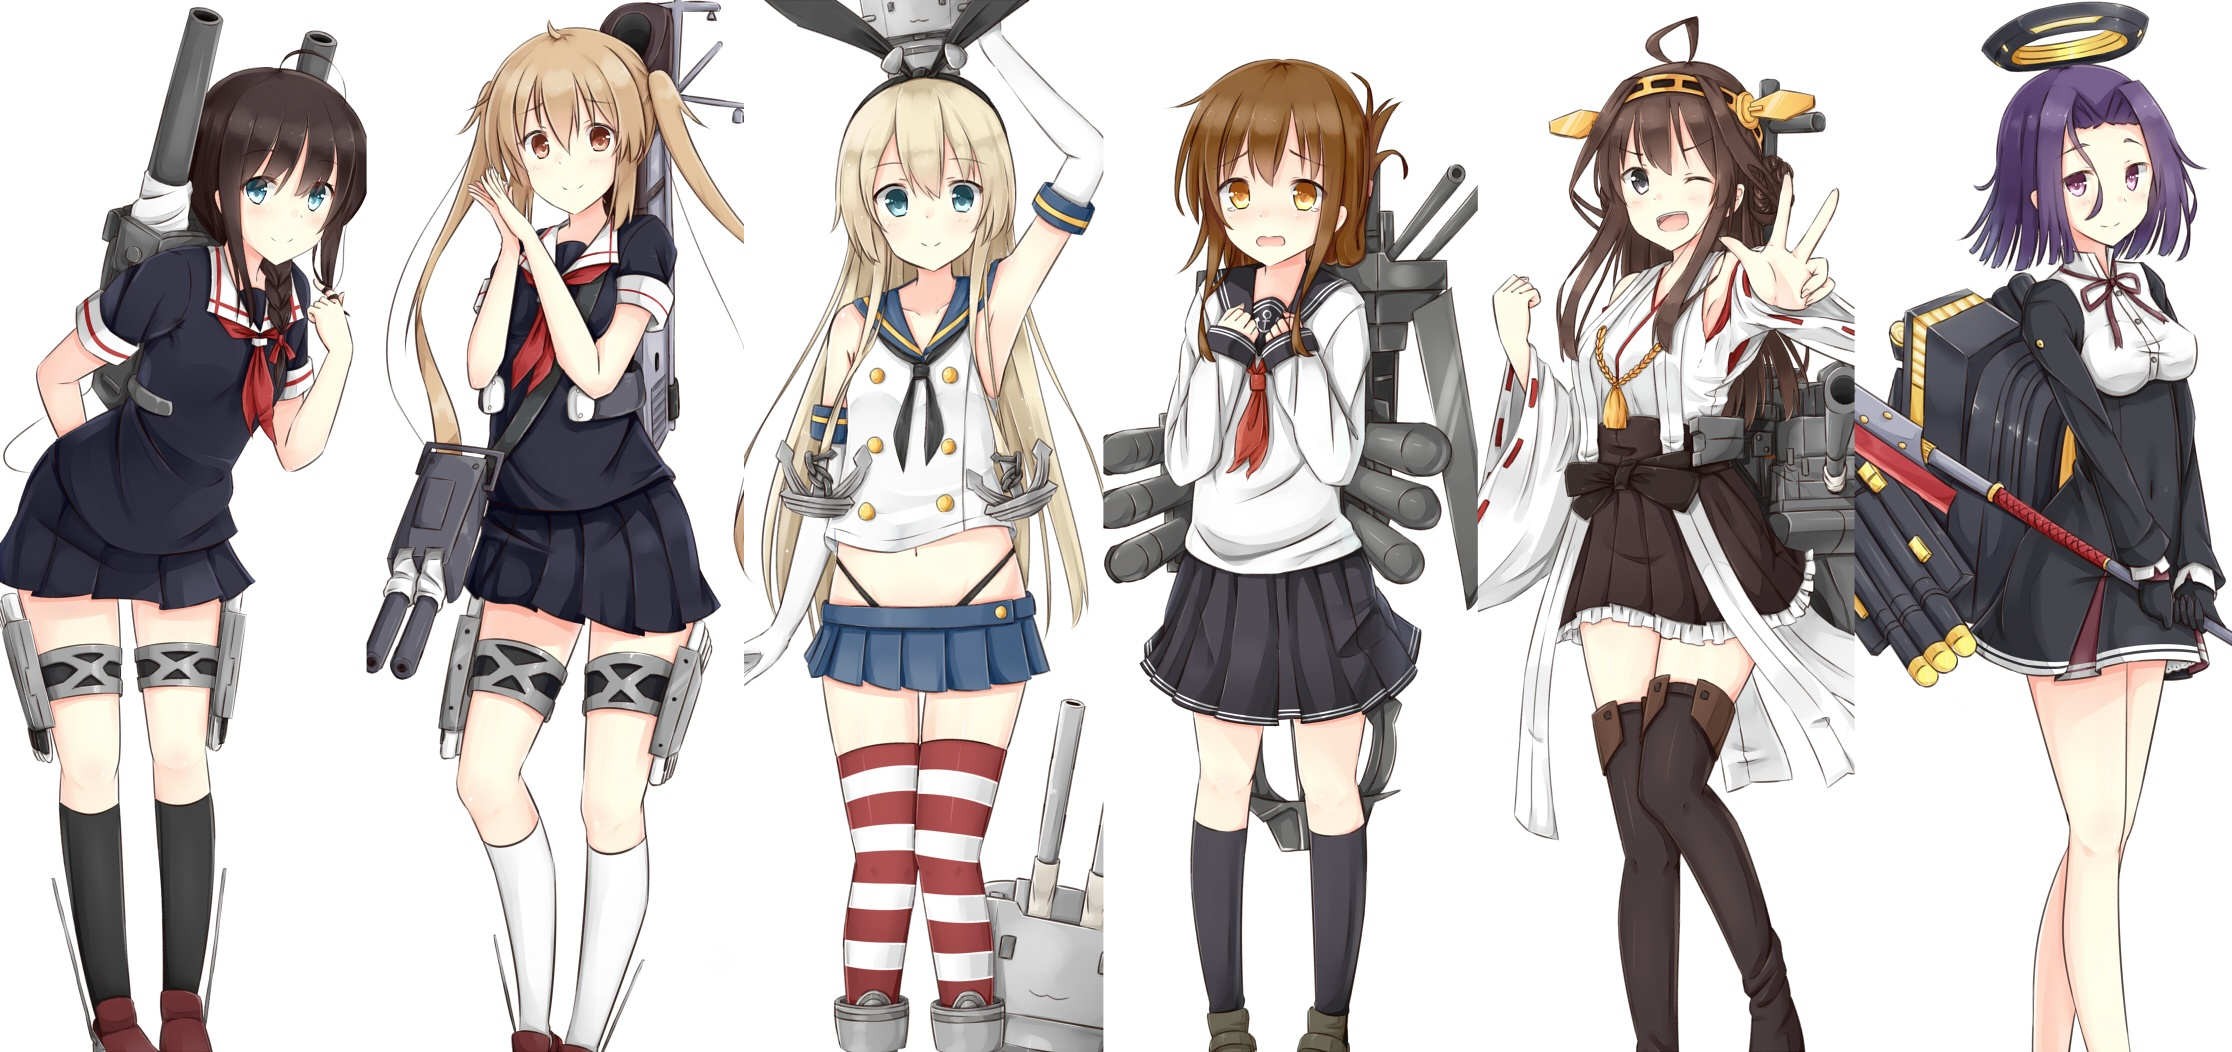纸片人正脸: (1555, 57, 1806, 311), (1965, 46, 2196, 294), (1169, 56, 1386, 291), (463, 17, 683, 239), (828, 58, 1031, 288), (184, 58, 369, 283)
